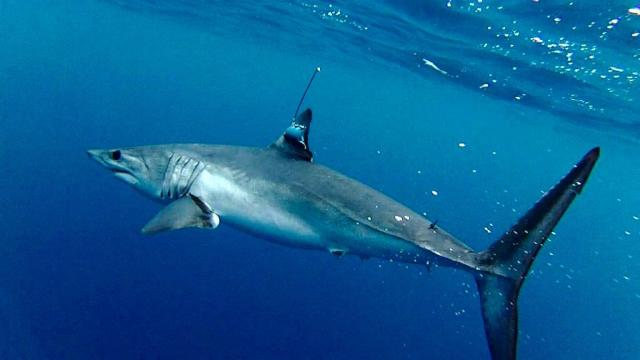Mulut: (100, 160, 138, 190)
Sirip Anal: (416, 253, 442, 282)
Sirip Dada: (130, 187, 226, 244)
Sirip Ekor: (450, 137, 574, 325)
Sirip Perut: (323, 240, 375, 270)
Sirip Punggung: (261, 100, 319, 172)
